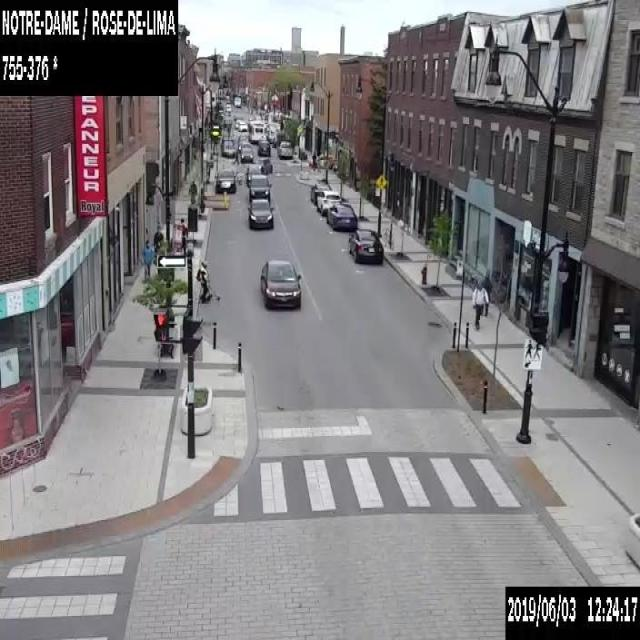bus: (246, 120, 264, 142)
pedestrian: (196, 259, 220, 304), (471, 279, 488, 328), (141, 238, 153, 280), (481, 274, 492, 316), (152, 225, 163, 256), (179, 216, 187, 245), (188, 179, 196, 204), (311, 150, 315, 170)
vehicle: (258, 258, 301, 309), (348, 228, 383, 264), (246, 198, 273, 228), (326, 203, 356, 230), (247, 173, 271, 203), (316, 189, 341, 216), (214, 168, 235, 192), (310, 182, 331, 204), (246, 164, 266, 186), (308, 152, 333, 168), (254, 156, 272, 174), (276, 140, 292, 158), (221, 140, 234, 157), (257, 140, 270, 155), (240, 146, 252, 161), (238, 136, 248, 150), (238, 121, 246, 130), (234, 119, 241, 128), (233, 96, 240, 105), (225, 104, 230, 111)
